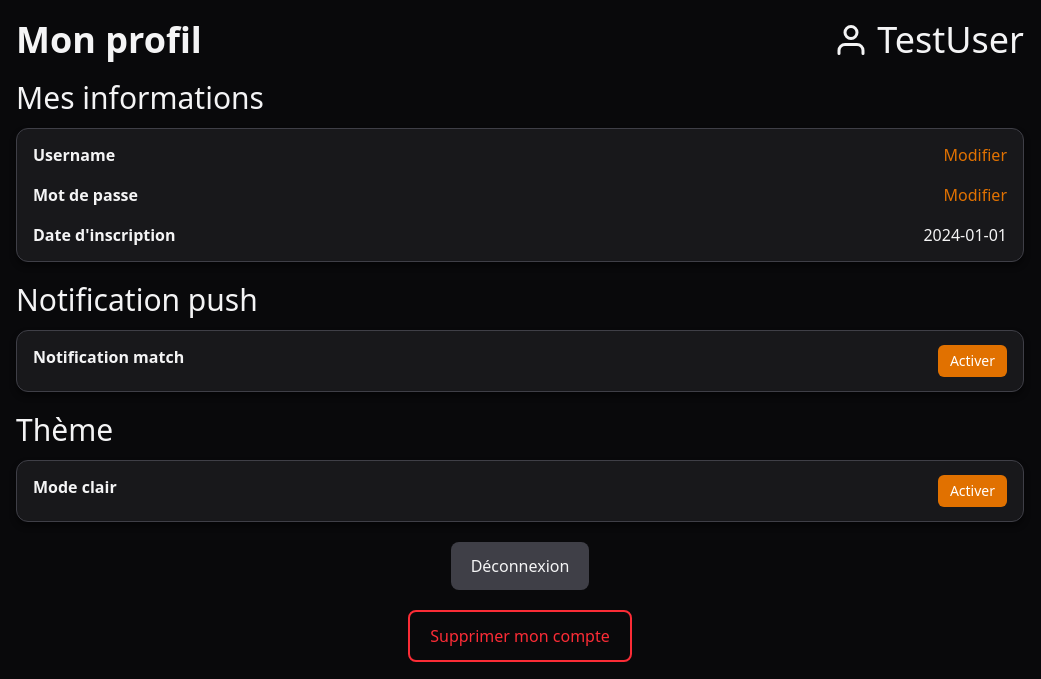
it: ProfilePage › asks for confirmation instead of deleting when clicking Supprimer mon compte
This screenshot has width=1041, height=679.
Click the button "Supprimer mon compte" at (520, 636), box [408,610,632,662]
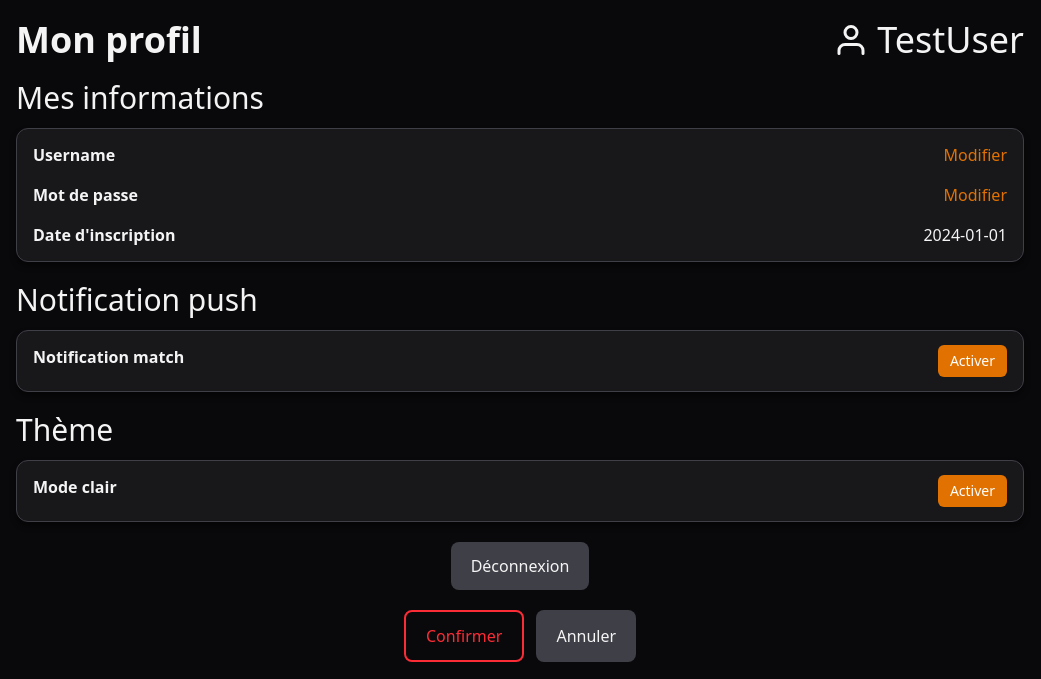
Expected: the button "Confirmer" is shown, [404,610,524,662]
Expected: the button "Annuler" is shown, [536,610,636,662]
Expected: the button "Supprimer mon compte" is gone
